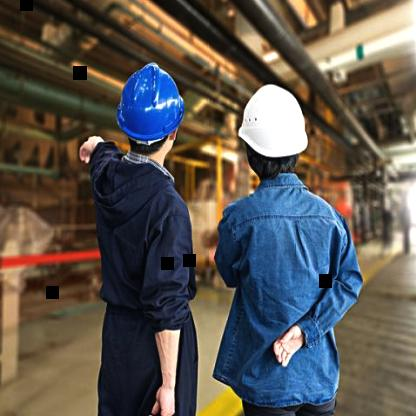helmet: (115, 57, 200, 175), (222, 82, 312, 192)
